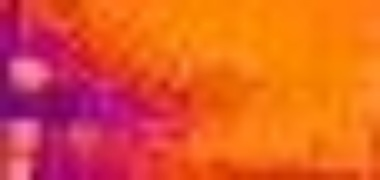Shadow: (1, 1, 152, 180)
